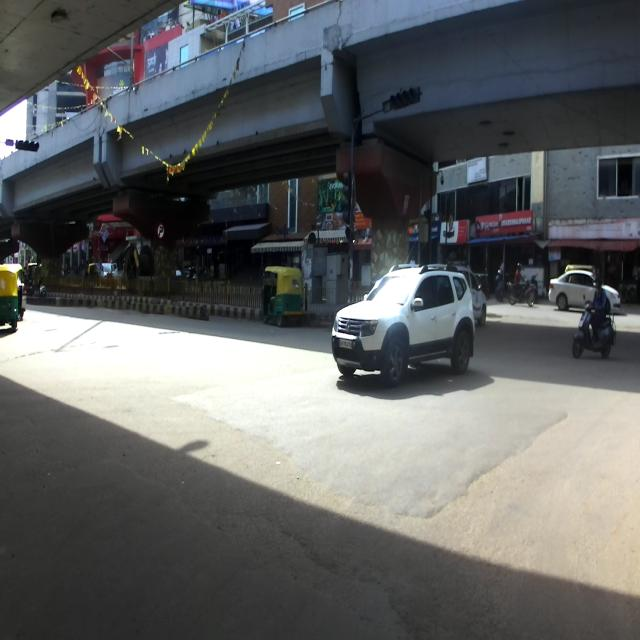auto ahead at: (259, 261, 307, 327), (0, 261, 28, 331)
car ahead at: (329, 259, 480, 389)
